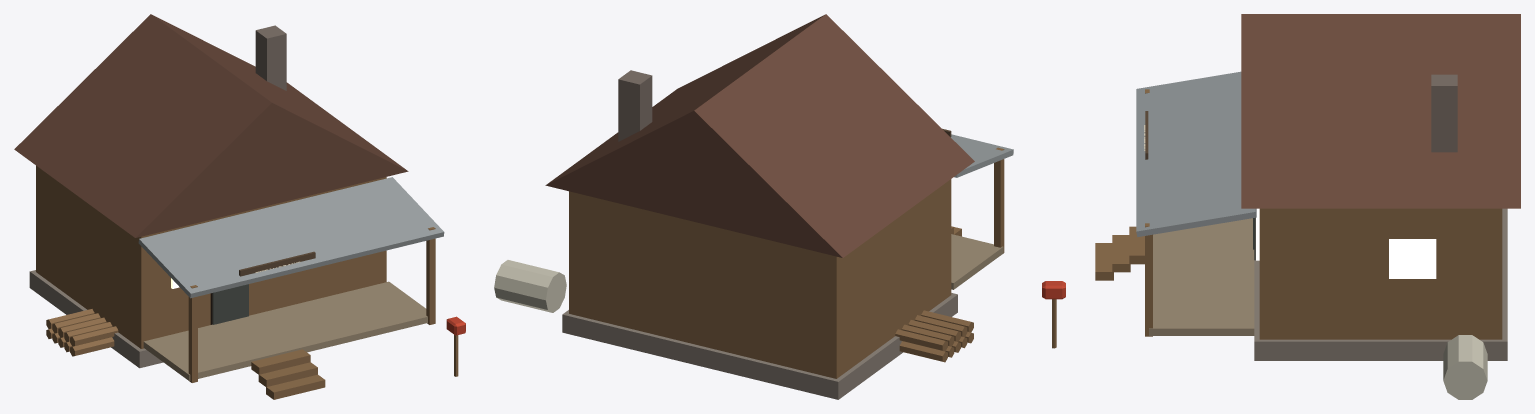
File: cottage.glb
3 renders of one model, left to right at view 1: azimuth 30°, elevation 25°; view 2: azimuth 150°, elevation 25°; view 3: azimuth 270°, elevation 25°, orthographic. The views are drawn at different scales.
Parts seen in each view (by area): view 1: cottage; view 2: cottage; view 3: cottage.
Part boxes in pixels (x1=…): cottage: x1=14, y1=14, x2=465, y2=399; cottage: x1=494, y1=14, x2=1013, y2=399; cottage: x1=1042, y1=14, x2=1520, y2=399.
Bounding box in the file's own units: 9.2 × 5.76 × 9.07.
